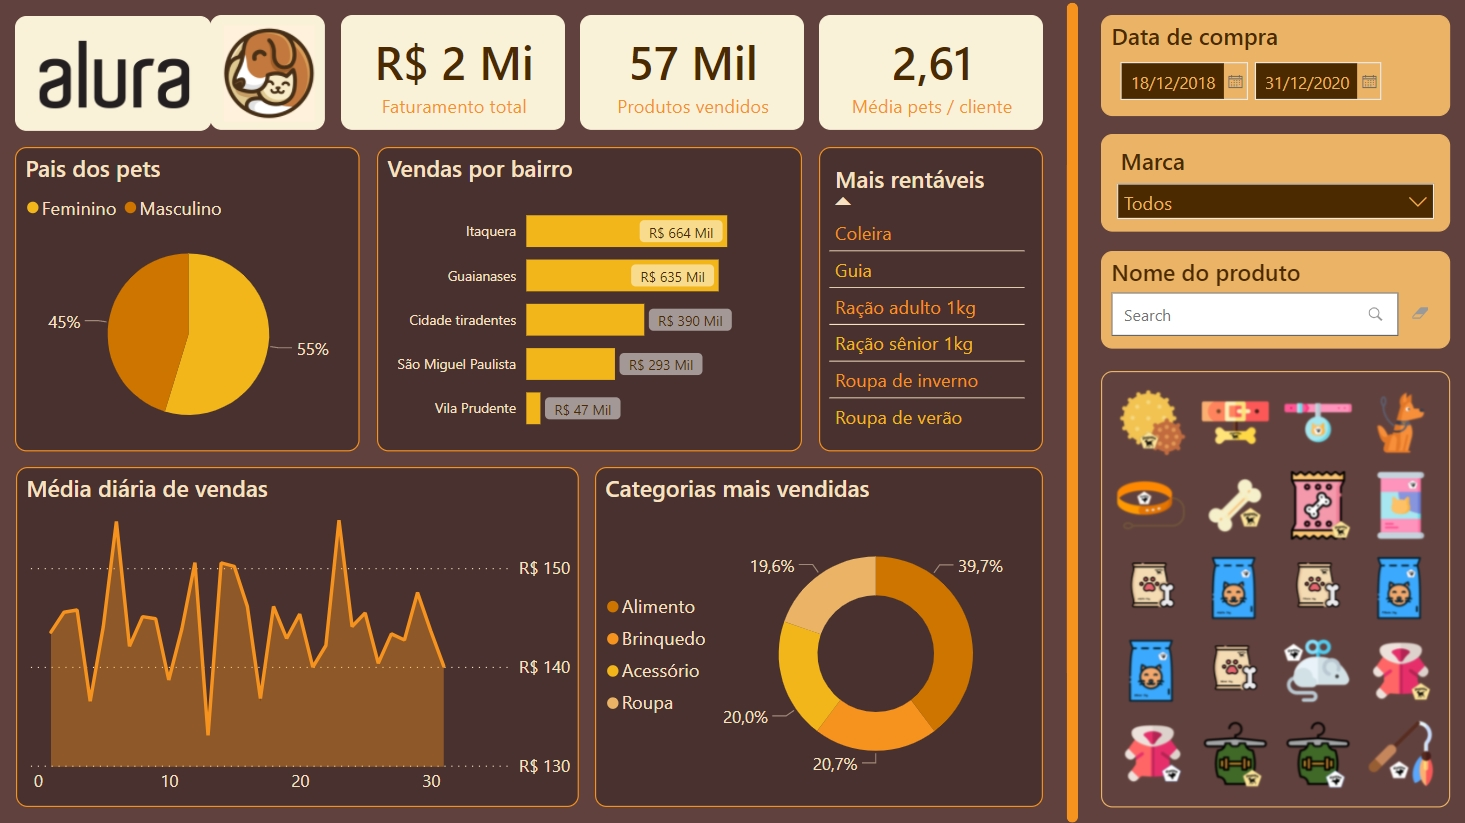

This screenshot's page, from the dashboard's own definition file:
{"tool":"powerbi","page":{"name":"Página 1","canvas":[1280,720],"ordinal":0},"visuals":[{"type":"shape","box":[0,0,1280,720],"z":0},{"type":"card","fields":{"Values":["Vendas.Faturamento total"]},"box":[298.5,15,195,100],"z":1000},{"type":"card","fields":{"Values":["Avg(Clientes.Pets)"]},"box":[714.7,15,195,100],"z":2000},{"type":"card","fields":{"Values":["Sum(Vendas.Quantidade)"]},"box":[506.6,15,195,100],"z":3000},{"type":"pieChart","title":"Pais dos pets","fields":{"Category":["Clientes.Gênero"],"Y":["Vendas.Faturamento total"]},"box":[15,130,300,265],"z":4000},{"type":"clusteredBarChart","title":"Vendas por bairro","fields":{"Y":["Vendas.Faturamento total"],"Category":["Clientes.Bairro"]},"box":[330,130,370,265],"z":5000},{"type":"areaChart","title":"Média diária de vendas","fields":{"Category":["Vendas.Data de compra.Variation.Date Hierarchy.Day"],"Y":["Avg(Vendas.Faturamento)"]},"box":[16,408,490,296],"z":6000},{"type":"slicer","title":"Data de compra","fields":{"Values":["Vendas.Data de compra"]},"box":[960,15,304,88],"z":7000},{"type":"slicer","fields":{"Values":["Produtos.Marca"]},"box":[960,118,304,85],"z":8000},{"type":"ImageGrid_FC5183B9_926C_45E0_B5F7_0CE9EAF1DA9B","fields":{"ImageURLHQ":["Produtos.Url img"]},"box":[960,325,304,380],"z":9000},{"type":"textFilter25A4896A83E0487089E2B90C9AE57C8A","title":"Nome do produto","fields":{"field":["Produtos.Nome produto"]},"box":[960,220,304,85],"z":10000},{"type":"image","box":[15,15.3,171,100],"z":11000},{"type":"image","box":[185,15,100,100],"z":12000},{"type":"shape","box":[926,0,16,720],"z":13000},{"type":"pivotTable","fields":{"Rows":["Produtos.Nome produto"]},"box":[715,130,195,265],"z":14000},{"type":"donutChart","title":"Categorias mais vendidas","fields":{"Y":["Sum(Vendas.Quantidade)"],"Category":["Produtos.Categoria"]},"box":[520,408,390,296],"z":15000}]}

Visuals, with their boxes in screenshot pixels (x1, y1, x2, y2), scaled from the page's 1280x720 canvas onto the 1465x823 screenshot:
shape: 0 0 1464 822
card - Vendas.Faturamento total: 342 17 565 131
card - Avg(Clientes.Pets): 818 17 1041 131
card - Sum(Vendas.Quantidade): 580 17 803 131
"Pais dos pets" pieChart: 17 149 361 452
"Vendas por bairro" clusteredBarChart: 378 149 801 452
"Média diária de vendas" areaChart: 18 466 579 805
"Data de compra" slicer: 1099 17 1447 118
slicer - Produtos.Marca: 1099 135 1447 232
ImageGrid_FC5183B9_926C_45E0_B5F7_0CE9EAF1DA9B - Produtos.Url img: 1099 371 1447 806
"Nome do produto" textFilter25A4896A83E0487089E2B90C9AE57C8A: 1099 251 1447 349
image: 17 17 213 132
image: 212 17 326 131
shape: 1060 0 1078 822
pivotTable - Produtos.Nome produto: 818 149 1042 452
"Categorias mais vendidas" donutChart: 595 466 1042 805
